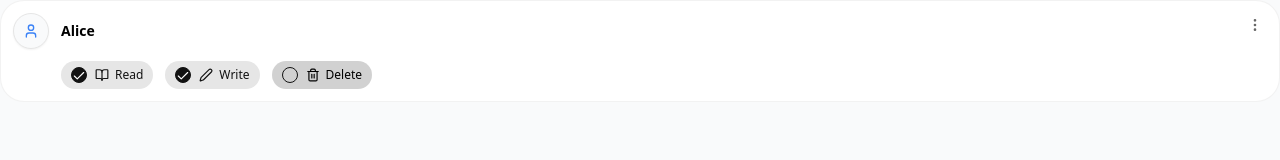
Test: CollaboratorItem Component › Bot Configuration Menu › should NOT show Configure option for human editor
The image size is (1280, 160).
Click the button.
click(1255, 25)  # box top-left (1243, 13), bottom-right (1267, 37)
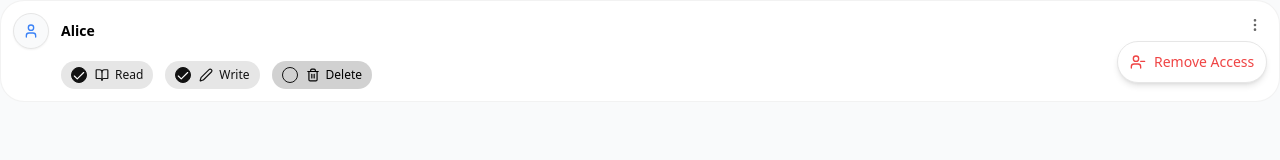
Expected: the text "Remove Access" is shown, top-left (1154, 52), bottom-right (1254, 72)
